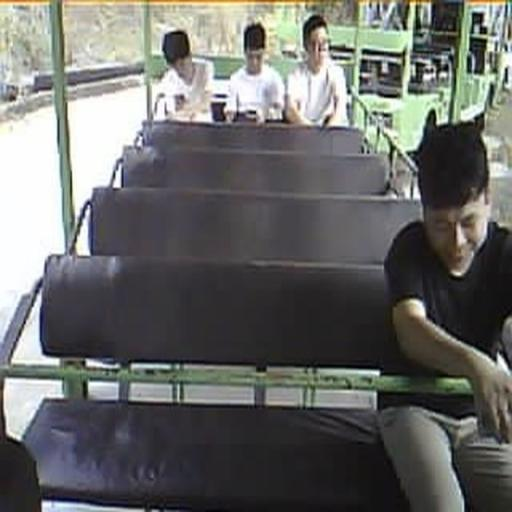persona: (378, 110, 511, 510), (284, 14, 350, 128), (226, 21, 286, 123), (152, 28, 214, 121)
